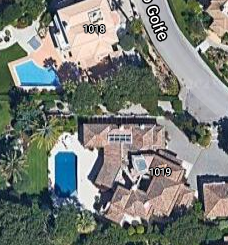pool: (56, 154, 76, 195), (19, 64, 55, 86)
